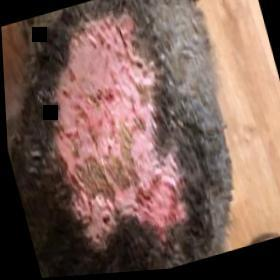skin_lesions: (16, 0, 209, 270)
